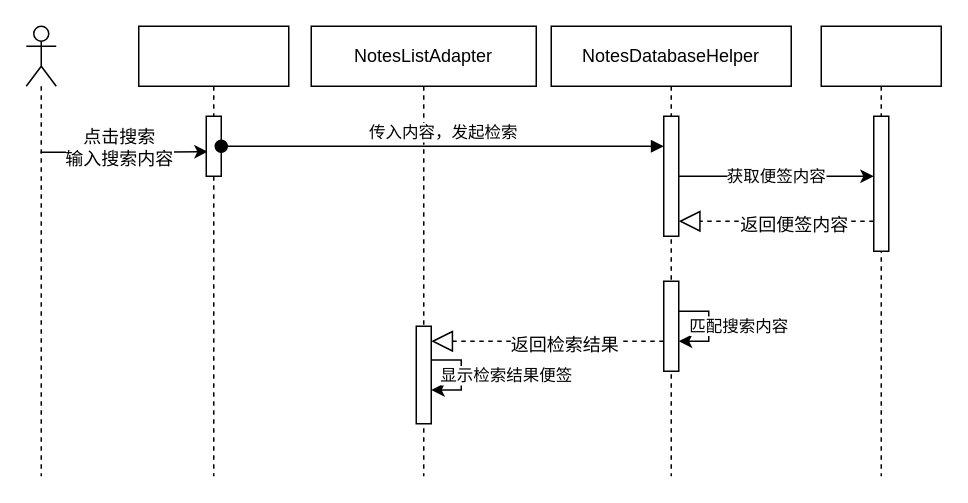
Image size: 968x503. Some labels were removed from this diagram. Here are the shapes that lost their labels. From the top down, the box of each, then its label:
(137, 25, 289, 476): SearchBar
(820, 25, 941, 476): Notes
